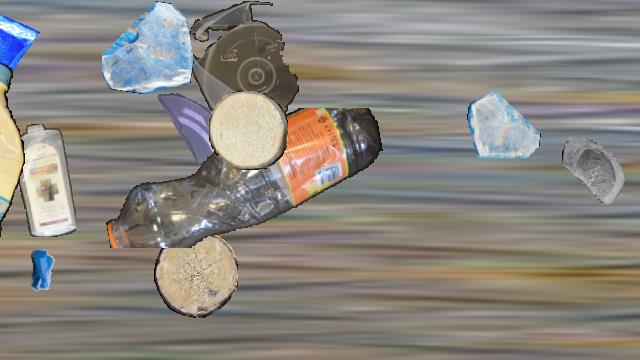glass: (102, 1, 194, 93), (153, 89, 237, 173), (561, 137, 637, 213), (467, 88, 541, 162), (0, 1, 40, 83)
metal: (12, 241, 74, 303)
plastic: (101, 108, 385, 248), (188, 1, 300, 133), (15, 124, 75, 236), (0, 63, 25, 275)
wood: (154, 232, 238, 318), (209, 91, 287, 169)
